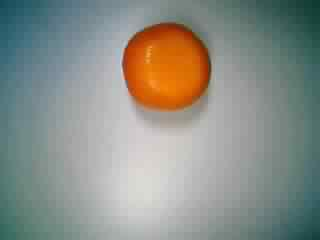orange: (116, 16, 217, 113)
